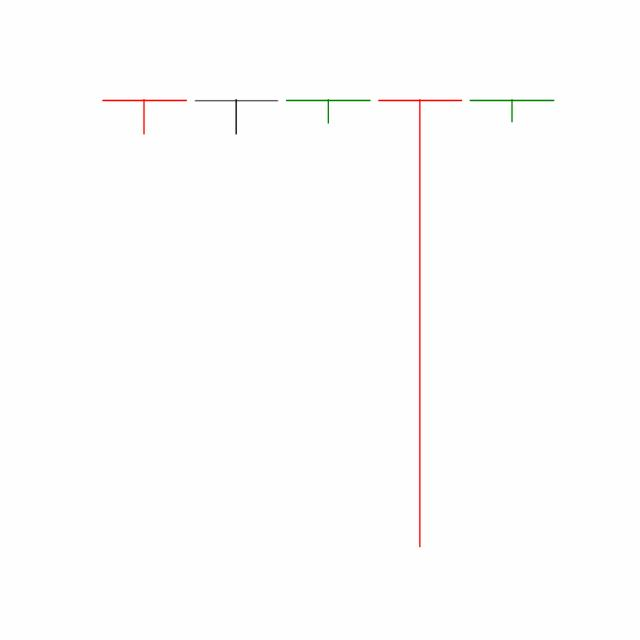Dragonfly Doji: (373, 94, 467, 552)
